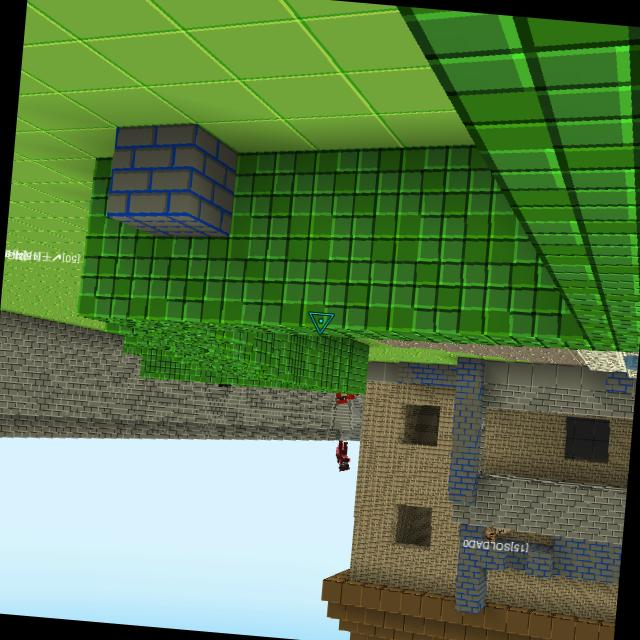enemy: (332, 440, 352, 473), (334, 392, 348, 404)
